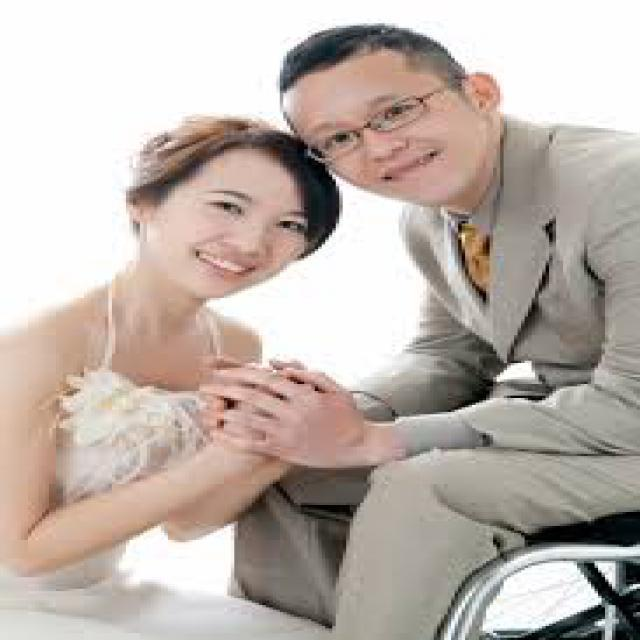wheelchairs: (318, 296, 637, 638)
